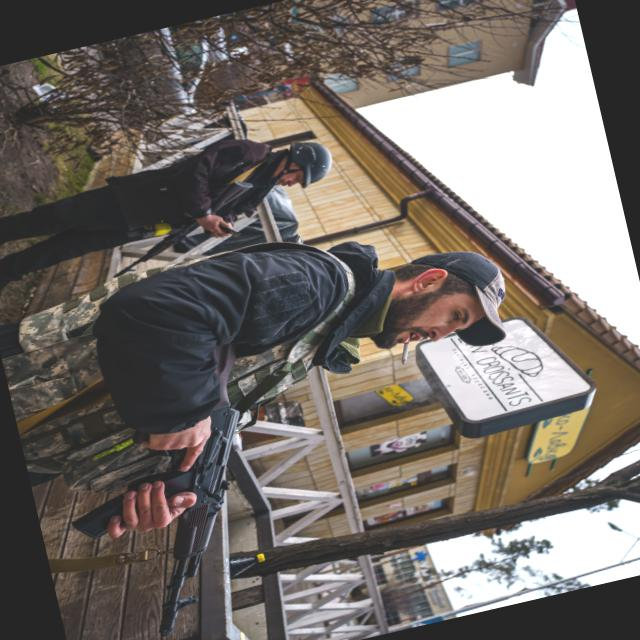long weapon: (119, 379, 262, 640), (105, 165, 255, 278)
